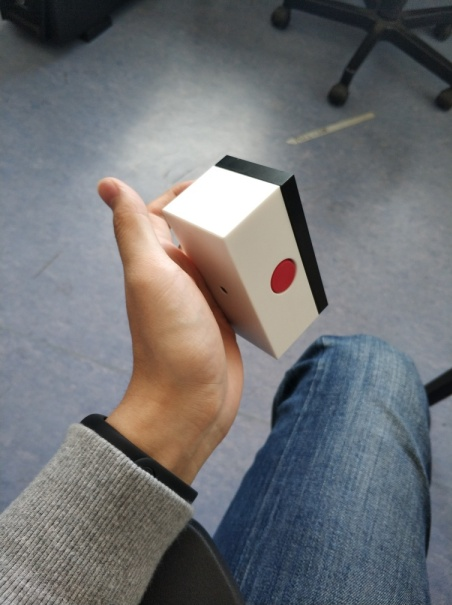black+white+red: (159, 151, 333, 362)
